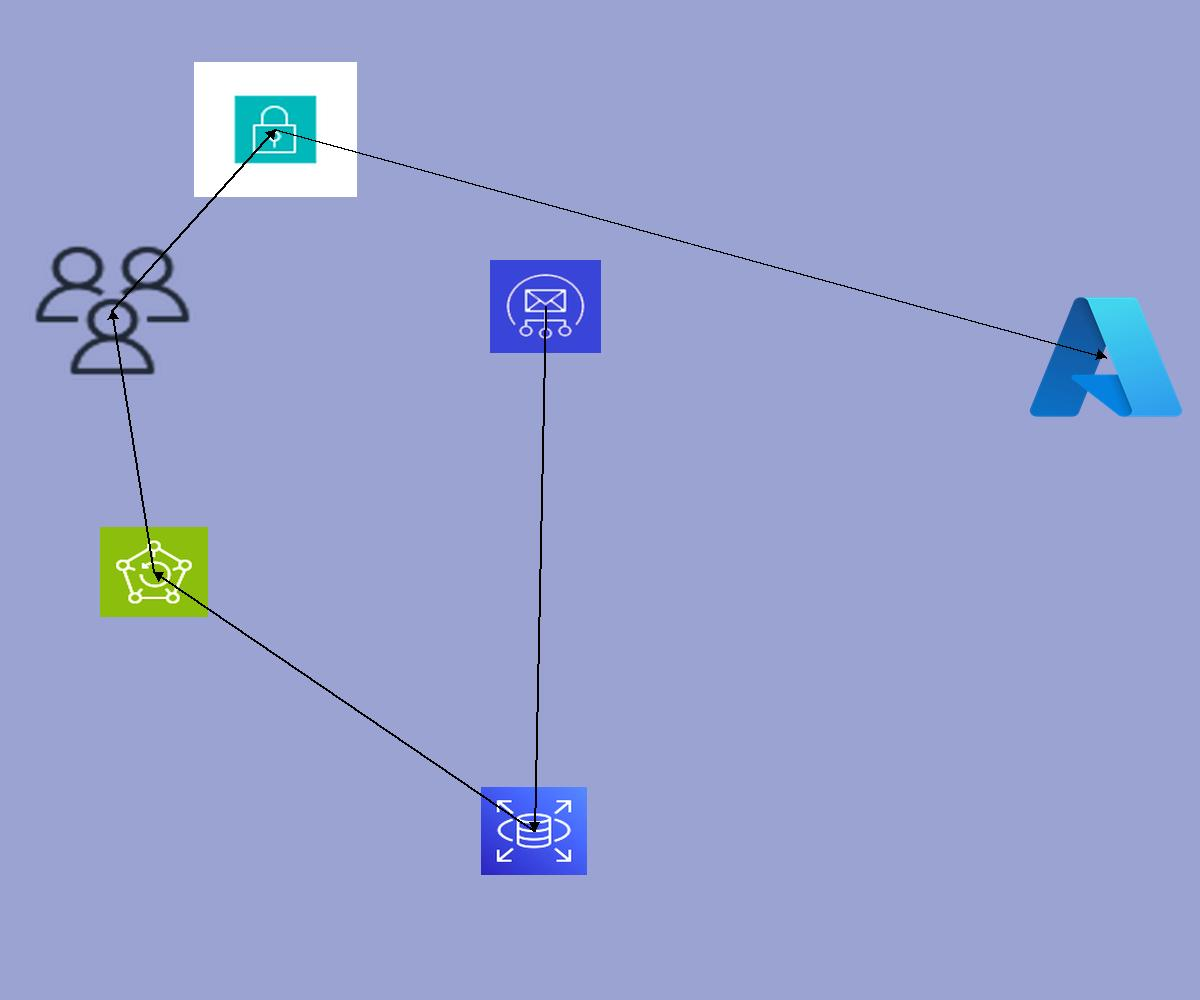AWS-Backup: (100, 527, 208, 617)
AWS-Private-subnet: (194, 62, 357, 197)
AWS-RDS: (481, 787, 587, 875)
AWS-Res_Users: (29, 241, 196, 380)
AWS-Simple-Email-Service: (490, 260, 601, 353)
Azure_services: (1023, 288, 1189, 426)
